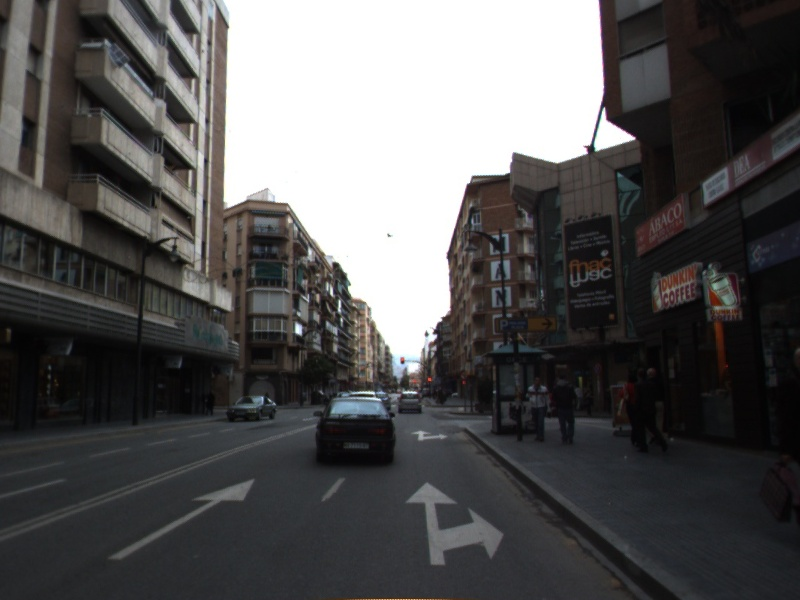STRAIGHT: (105, 477, 257, 562)
STRAIGHT_RIGHT: (402, 479, 506, 568), (409, 428, 450, 442)
